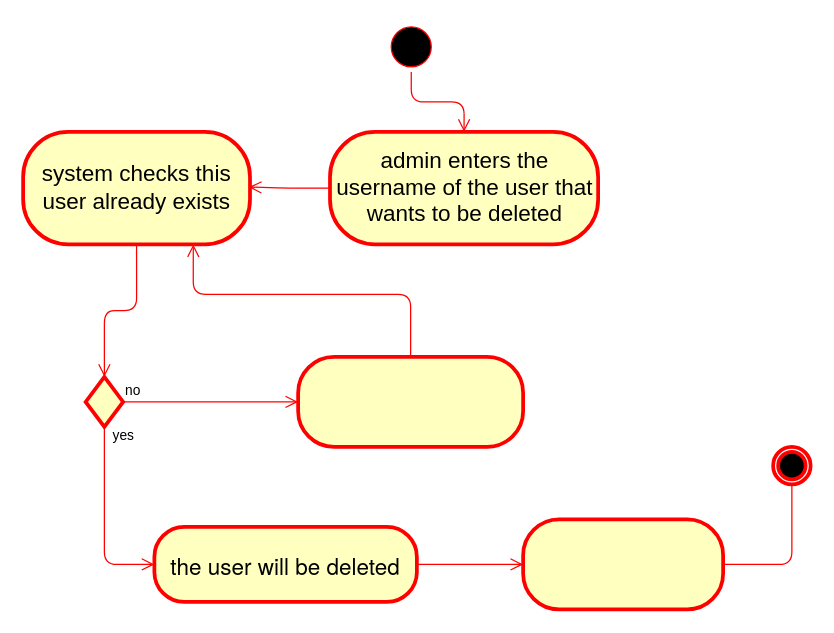
Image size: 834x633. Some labels were removed from this diagram. The centre of each missing label's shape, as x and y in pixels:
error message of "there is not such user": (410,401)
success message: (622,564)
